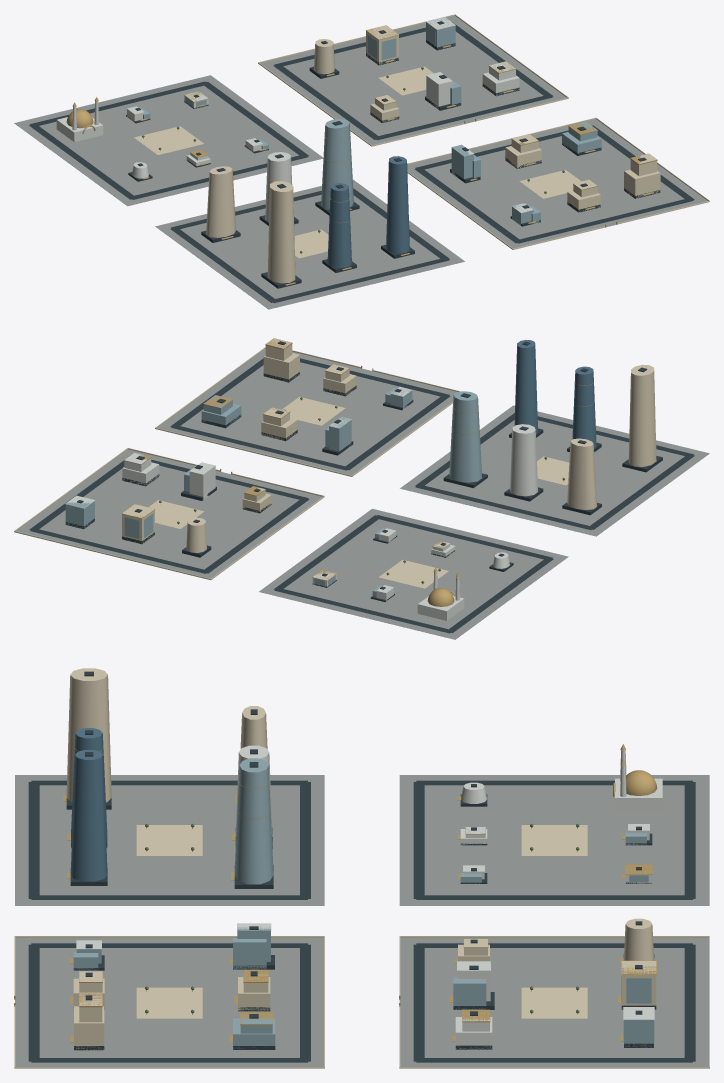
Rendered from GC-TILE-15-20.glb.
3 renders of one model, top to bottom at view 1: azimuth 30°, elevation 25°; view 2: azimuth 150°, elevation 25°; view 3: azimuth 270°, elevation 25°, orthographic. The views are drawn at different scales.
Visible parts, largest first — view 1: GC-TILE-15-20-paving, GC-TILE-15-20-ivory, GC-TILE-15-20-dark, GC-TILE-15-20-glass, GC-TILE-15-20-white, GC-TILE-15-20-blue, GC-TILE-15-20-gold; view 2: GC-TILE-15-20-paving, GC-TILE-15-20-ivory, GC-TILE-15-20-dark, GC-TILE-15-20-glass, GC-TILE-15-20-white, GC-TILE-15-20-blue, GC-TILE-15-20-gold; view 3: GC-TILE-15-20-paving, GC-TILE-15-20-dark, GC-TILE-15-20-ivory, GC-TILE-15-20-glass, GC-TILE-15-20-white, GC-TILE-15-20-blue, GC-TILE-15-20-gold.
Boxes of the visible parts, x1,y1,x2,y2 form: GC-TILE-15-20-paving: (14, 16, 707, 309); GC-TILE-15-20-ivory: (134, 14, 709, 283); GC-TILE-15-20-dark: (29, 21, 694, 303); GC-TILE-15-20-glass: (140, 17, 601, 225); GC-TILE-15-20-white: (56, 17, 533, 222); GC-TILE-15-20-blue: (327, 156, 409, 267); GC-TILE-15-20-gold: (66, 25, 657, 285); GC-TILE-15-20-paving: (16, 348, 709, 639); GC-TILE-15-20-ivory: (14, 338, 656, 588); GC-TILE-15-20-dark: (29, 341, 694, 633); GC-TILE-15-20-glass: (65, 387, 482, 596); GC-TILE-15-20-white: (65, 387, 537, 620); GC-TILE-15-20-blue: (514, 340, 596, 448); GC-TILE-15-20-gold: (121, 338, 656, 606); GC-TILE-15-20-paving: (15, 775, 709, 1066); GC-TILE-15-20-dark: (28, 671, 695, 1062); GC-TILE-15-20-ivory: (14, 668, 709, 1068); GC-TILE-15-20-glass: (73, 758, 654, 1049); GC-TILE-15-20-white: (76, 745, 662, 1049); GC-TILE-15-20-blue: (70, 728, 107, 881); GC-TILE-15-20-gold: (14, 744, 657, 1042).
Size of the model in its own units: 758 by 155 by 760.
